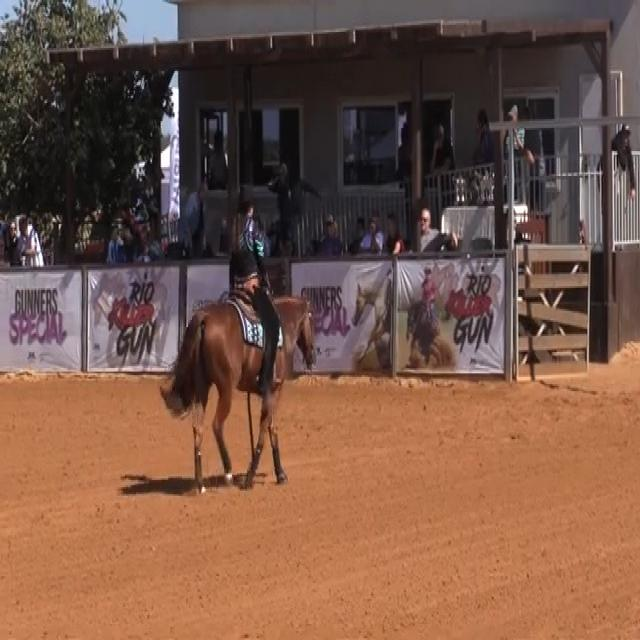horse: (159, 288, 318, 492)
